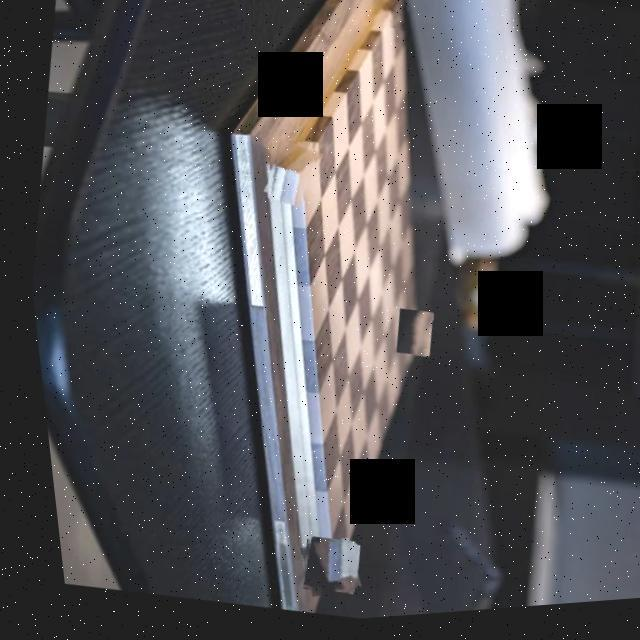chess-table-corners: (280, 535, 352, 605), (257, 138, 322, 213), (384, 312, 429, 362), (359, 0, 416, 38)
